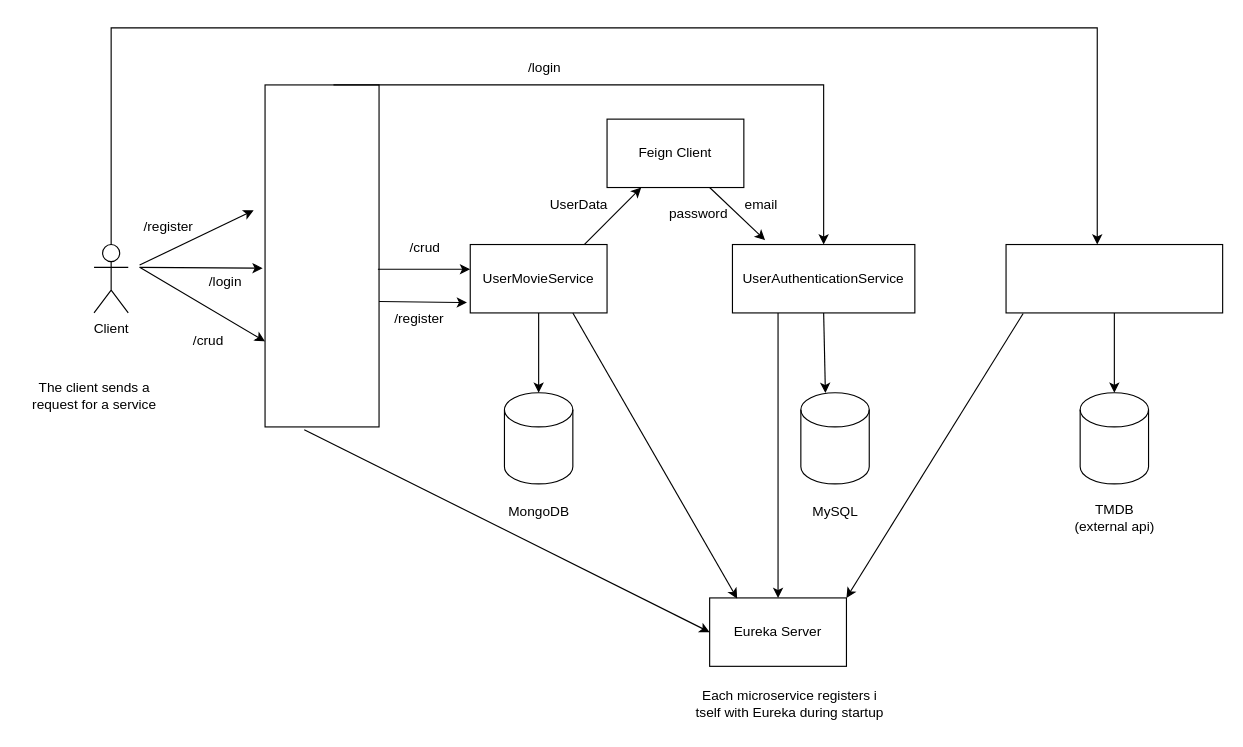
Image size: 1243x747. Some labels were removed from this diagram. The centre of each missing label's shape, as x and y in pixels:
"API Gateway" goes at point 321,255.
"MovieRecommendationService" goes at point 1114,278.
